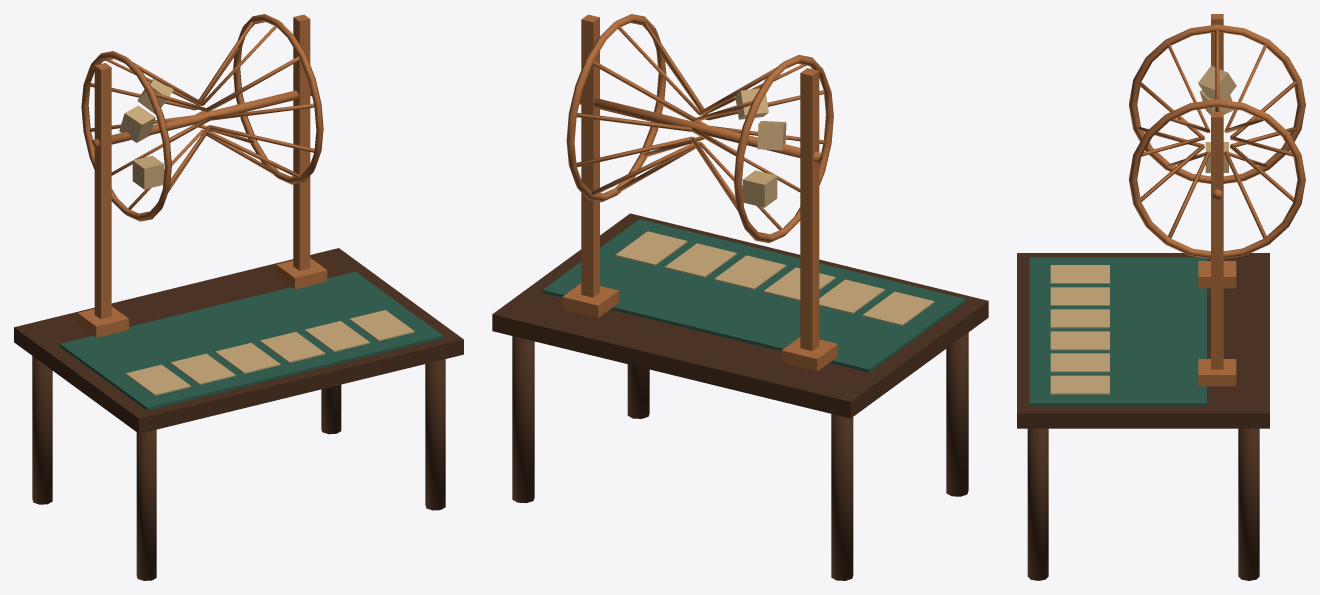
File: chuck_a_luck_cage.glb
3 renders of one model, left to right at view 1: azimuth 30°, elevation 25°; view 2: azimuth 150°, elevation 25°; view 3: azimuth 270°, elevation 25°, orthographic. The views are drawn at different scales.
Visible parts, largest first — view 1: chuck_a_luck_cage wood, chuck_a_luck_cage metal, chuck_a_luck_cage felt, chuck_a_luck_cage stone; view 2: chuck_a_luck_cage wood, chuck_a_luck_cage metal, chuck_a_luck_cage felt, chuck_a_luck_cage stone; view 3: chuck_a_luck_cage wood, chuck_a_luck_cage felt, chuck_a_luck_cage metal, chuck_a_luck_cage stone.
Part boxes in pixels (x1,y1,x2,y2): chuck_a_luck_cage wood: [14, 248, 463, 580]; chuck_a_luck_cage metal: [77, 14, 327, 337]; chuck_a_luck_cage felt: [59, 271, 443, 410]; chuck_a_luck_cage stone: [119, 78, 414, 395]; chuck_a_luck_cage wood: [492, 213, 988, 580]; chuck_a_luck_cage metal: [562, 14, 837, 371]; chuck_a_luck_cage felt: [542, 219, 965, 372]; chuck_a_luck_cage stone: [615, 88, 934, 325]; chuck_a_luck_cage wood: [1017, 253, 1269, 580]; chuck_a_luck_cage felt: [1029, 257, 1206, 406]; chuck_a_luck_cage metal: [1129, 14, 1305, 386]; chuck_a_luck_cage stone: [1050, 65, 1236, 394].
Size of what is drawn, in the model's own units: 1.8 by 2.32 by 1.37.
